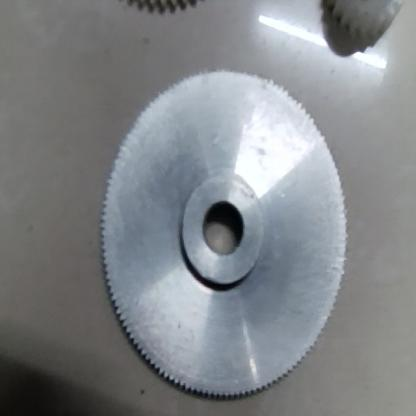FOD: (98, 49, 352, 403), (337, 0, 404, 38)
